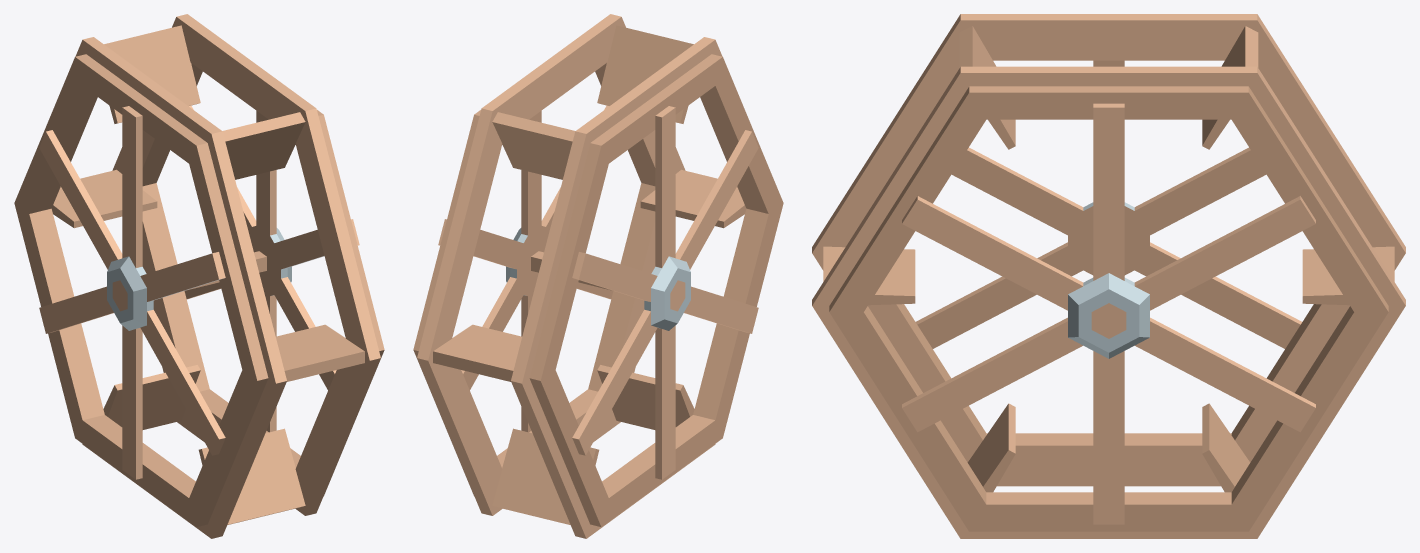
Rendered from watermill.glb.
3 views of the same model, side by side, from view 1: azimuth 30°, elevation 25°; view 2: azimuth 150°, elevation 25°; view 3: azimuth 270°, elevation 25° (orthographic). The views are drawn at different scales.
Parts seen in each view (by area): view 1: watermill, paddle.005, paddle.003, paddle.004, paddle.002, paddle, paddle.001; view 2: watermill, paddle, paddle.004, paddle.003, paddle.001, paddle.005, paddle.002; view 3: watermill, paddle, paddle.005, paddle.001, paddle.002, paddle.003, paddle.004.
Part boxes in pixels (bbox=[...]): watermill: bbox=[14, 14, 384, 538]; paddle.005: bbox=[198, 428, 305, 524]; paddle.003: bbox=[104, 25, 200, 123]; paddle.004: bbox=[222, 112, 305, 179]; paddle.002: bbox=[276, 324, 364, 381]; paddle: bbox=[103, 365, 200, 429]; paddle.001: bbox=[51, 169, 157, 228]; watermill: bbox=[413, 14, 783, 538]; paddle: bbox=[492, 428, 599, 524]; paddle.004: bbox=[597, 25, 693, 123]; paddle.003: bbox=[492, 112, 575, 179]; paddle.001: bbox=[433, 324, 521, 381]; paddle.005: bbox=[597, 365, 694, 429]; paddle.002: bbox=[640, 169, 746, 228]; watermill: bbox=[812, 14, 1405, 538]; paddle: bbox=[1202, 403, 1250, 492]; paddle.005: bbox=[967, 403, 1015, 492]; paddle.001: bbox=[1302, 246, 1394, 305]; paddle.002: bbox=[823, 246, 915, 305]; paddle.003: bbox=[1202, 26, 1258, 149]; paddle.004: bbox=[959, 26, 1015, 149].
Bounding box in the file's own units: 0.71 × 1.73 × 2.
